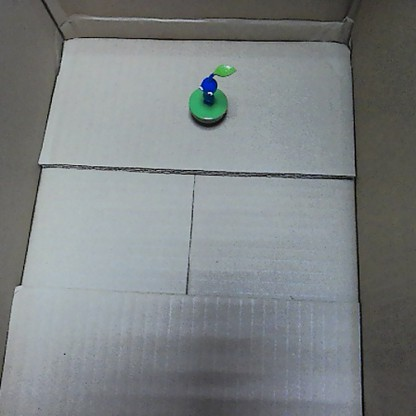leafairy: (186, 57, 238, 126)
